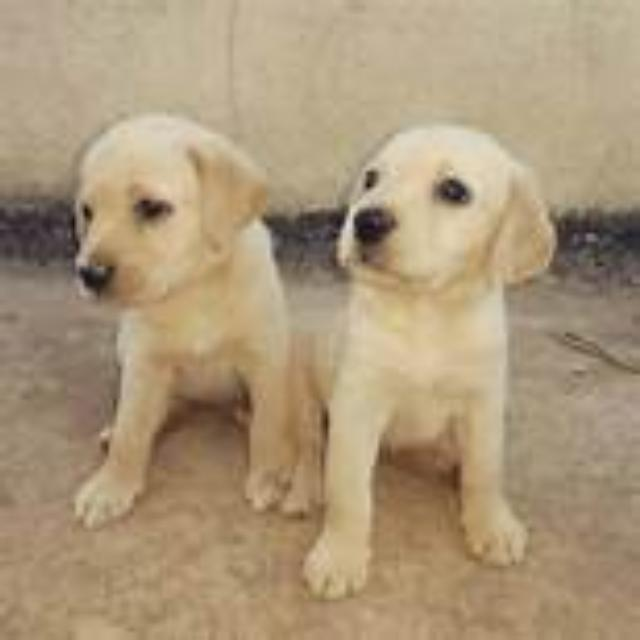dog: (306, 100, 604, 636), (39, 91, 304, 536)
